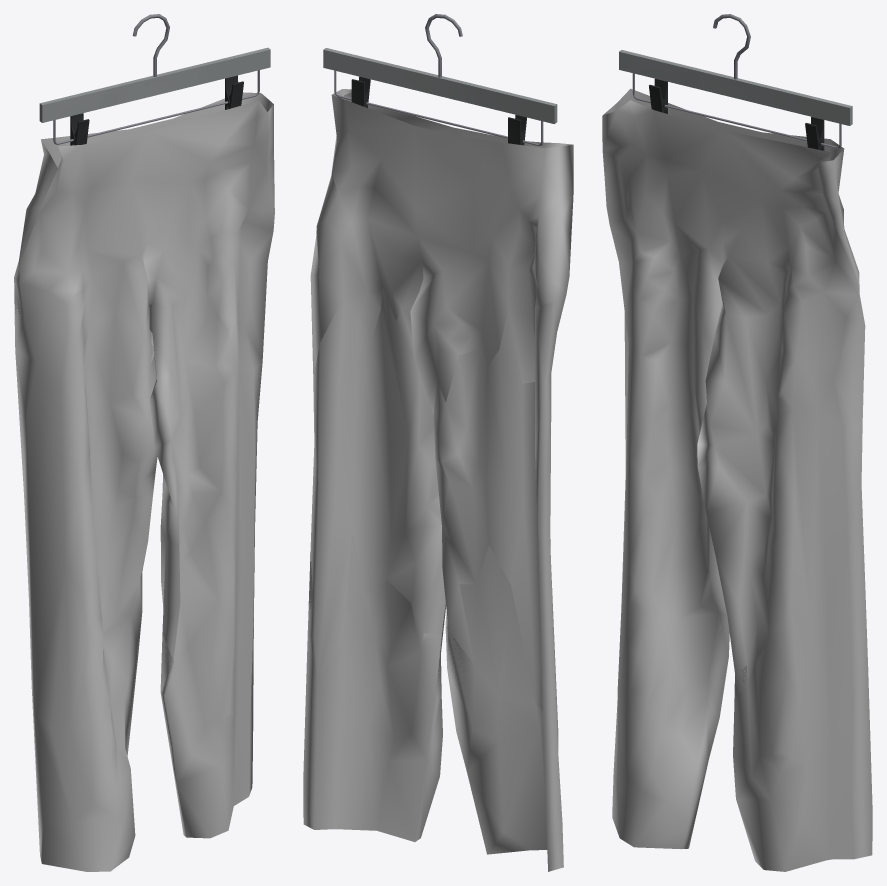
Rendered from sweatpants.FBX.
3 views of the same model, side by side, from view 1: azimuth 30°, elevation 25°; view 2: azimuth 150°, elevation 25°; view 3: azimuth 330°, elevation 25° (orthographic).
Parts seen in each view (by area): view 1: sweatpants_LOD0, _Hanger-4_LOD0; view 2: sweatpants_LOD0, _Hanger-4_LOD0; view 3: sweatpants_LOD0, _Hanger-4_LOD0.
Part boxes in pixels (x1,y1,x2,y2): sweatpants_LOD0: (14, 92, 274, 871); _Hanger-4_LOD0: (39, 14, 270, 145); sweatpants_LOD0: (303, 89, 573, 871); _Hanger-4_LOD0: (323, 14, 557, 146); sweatpants_LOD0: (602, 88, 872, 871); _Hanger-4_LOD0: (619, 14, 852, 150).
Size of what is drawn, in the model's own units: 35.28 by 11.66 by 111.
